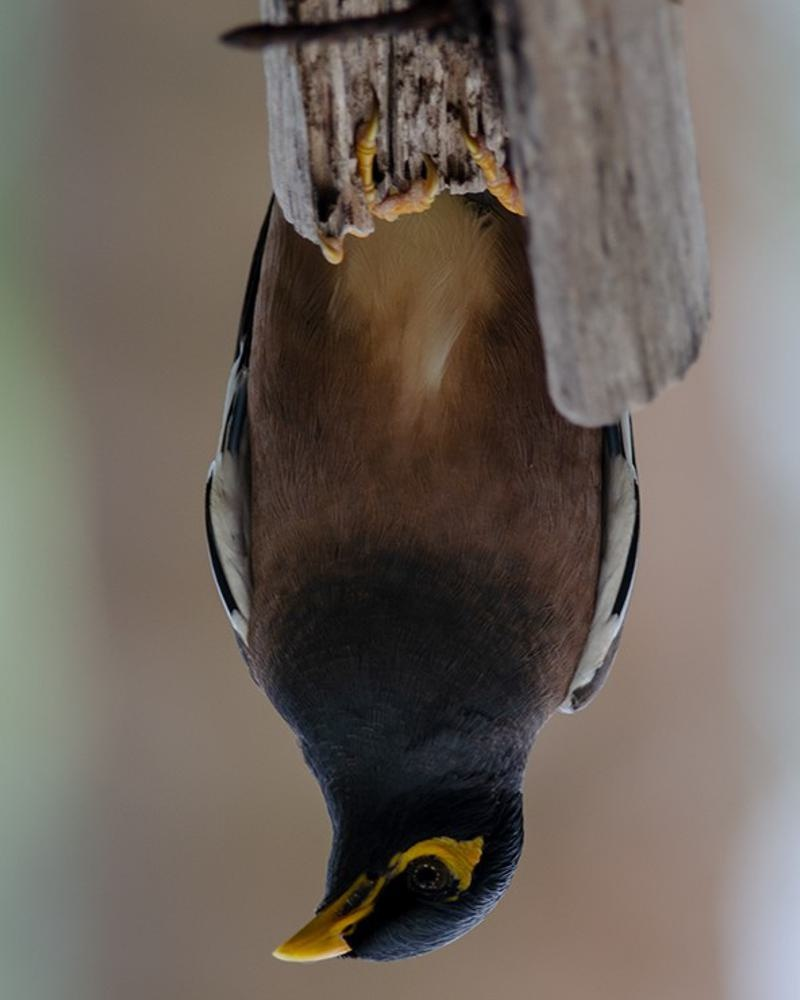myna: (253, 40, 618, 978)
